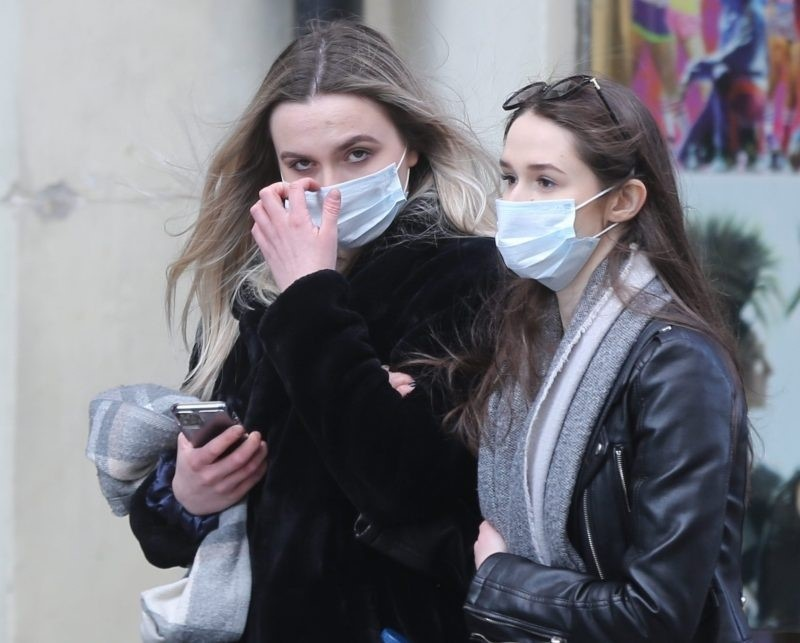face_with_mask: (481, 94, 654, 301), (267, 66, 429, 265)
